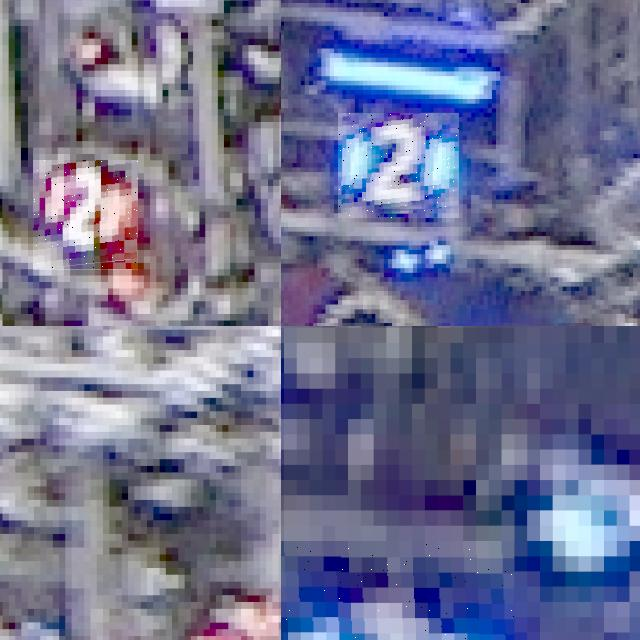B2: (338, 113, 459, 218)
B3: (281, 541, 514, 640)
R2: (33, 160, 138, 270)
